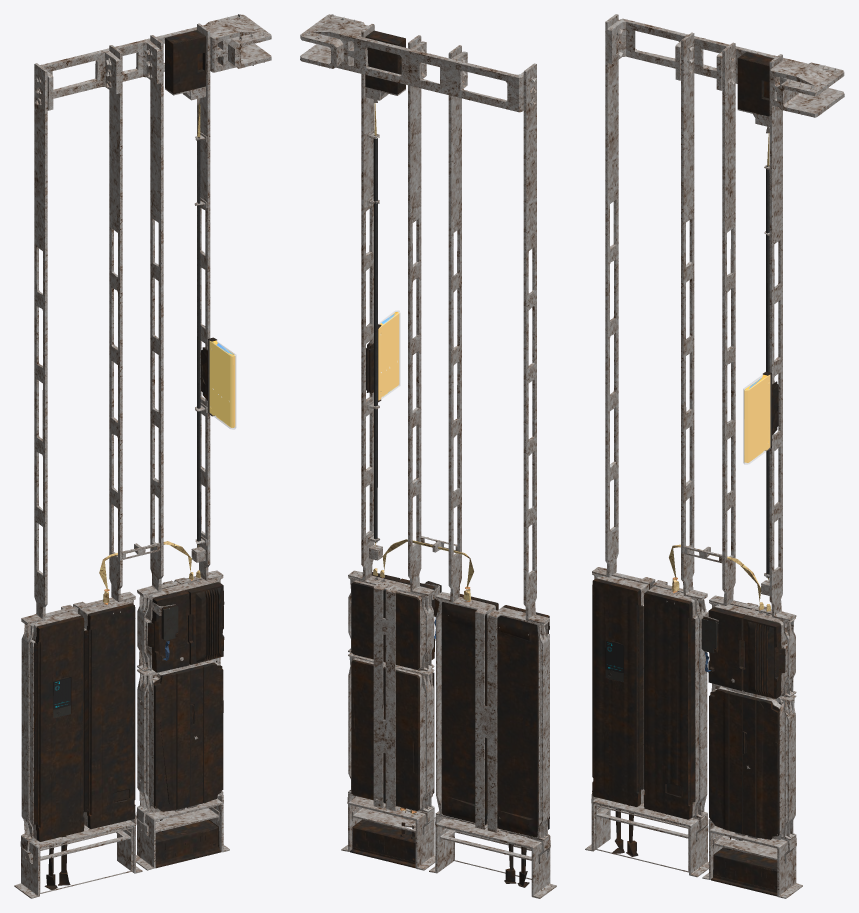
The model's file is metro_utility_cabinet.glb.
The picture shows the model from 3 angles, left to right: view 1: azimuth 30°, elevation 25°; view 2: azimuth 150°, elevation 25°; view 3: azimuth 330°, elevation 25°; orthographic projection.
Parts seen in each view (by area): view 1: metro_utility_cabinet; view 2: metro_utility_cabinet; view 3: metro_utility_cabinet.
Boxes of the visible parts, x1,y1,x2,y2 form: metro_utility_cabinet: [14, 14, 271, 898]; metro_utility_cabinet: [300, 14, 556, 898]; metro_utility_cabinet: [585, 14, 844, 898].
Size of the model in its own units: 1.52 by 5.07 by 0.5203.
Materials: 14 (10 with a texture image).
